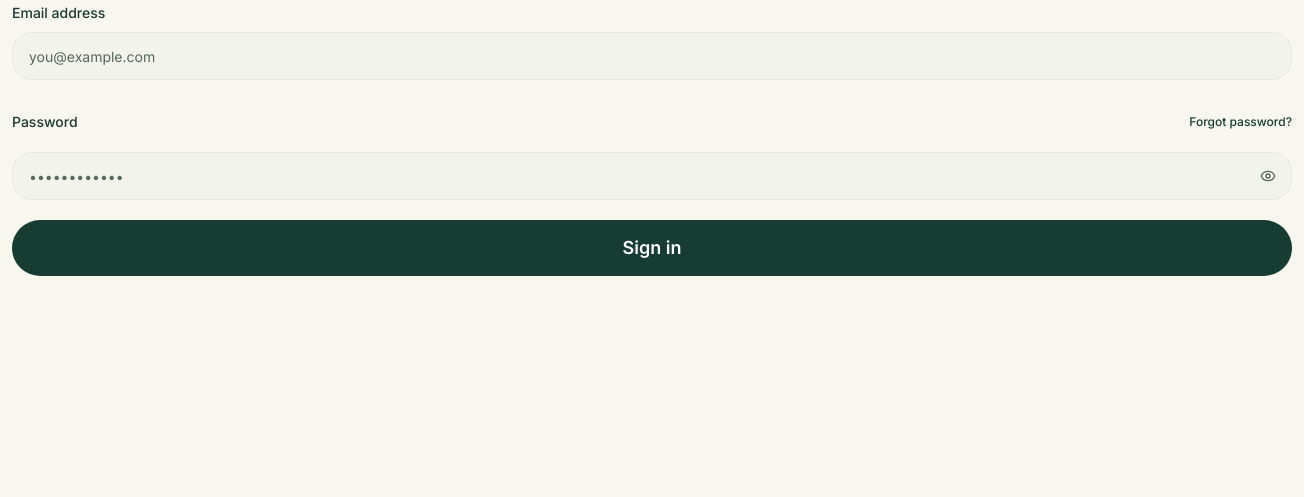
Test: clears the previous confirmation address when the email is edited
Type "owner@example.invalid" into the field labelled "Email address" at (652, 56), box [12, 32, 1292, 80]
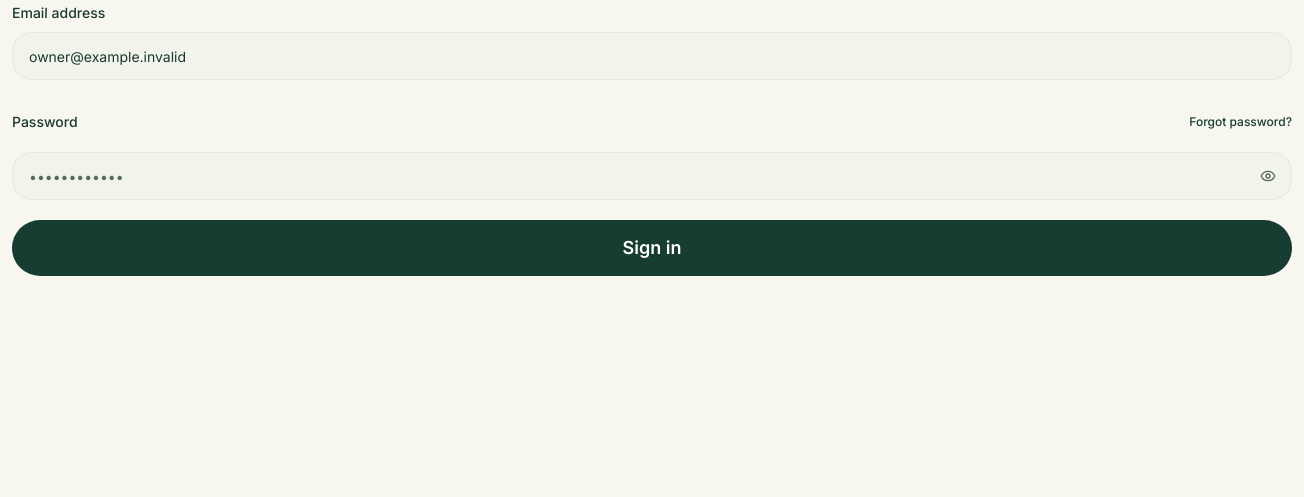
Type "ExamplePass1" into the password field labelled "Password" at (652, 176), box [12, 152, 1292, 200]
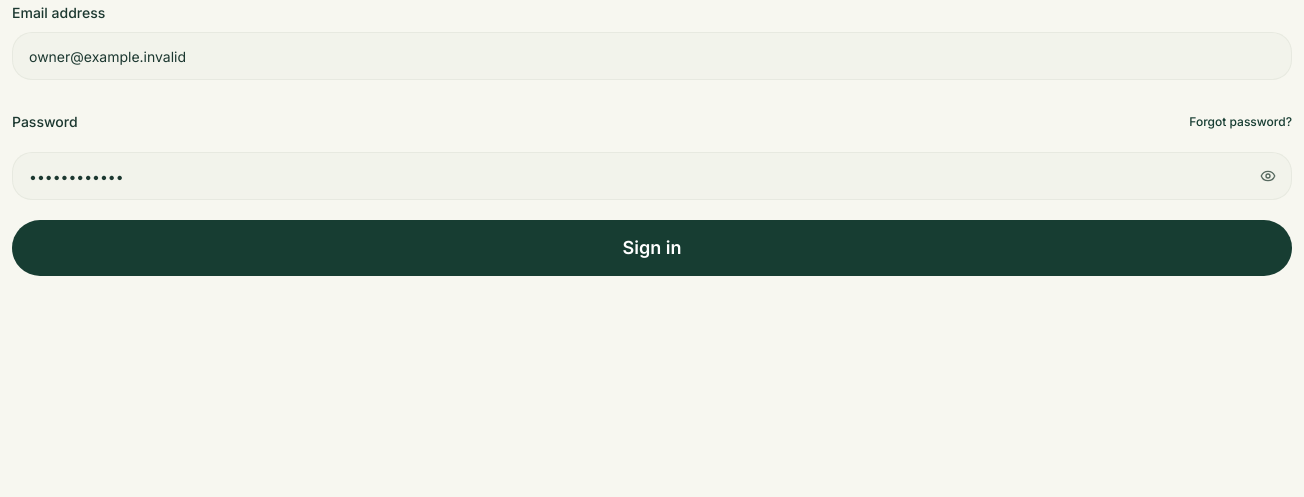
Click the button "Sign in" at (652, 248), box [12, 220, 1292, 276]
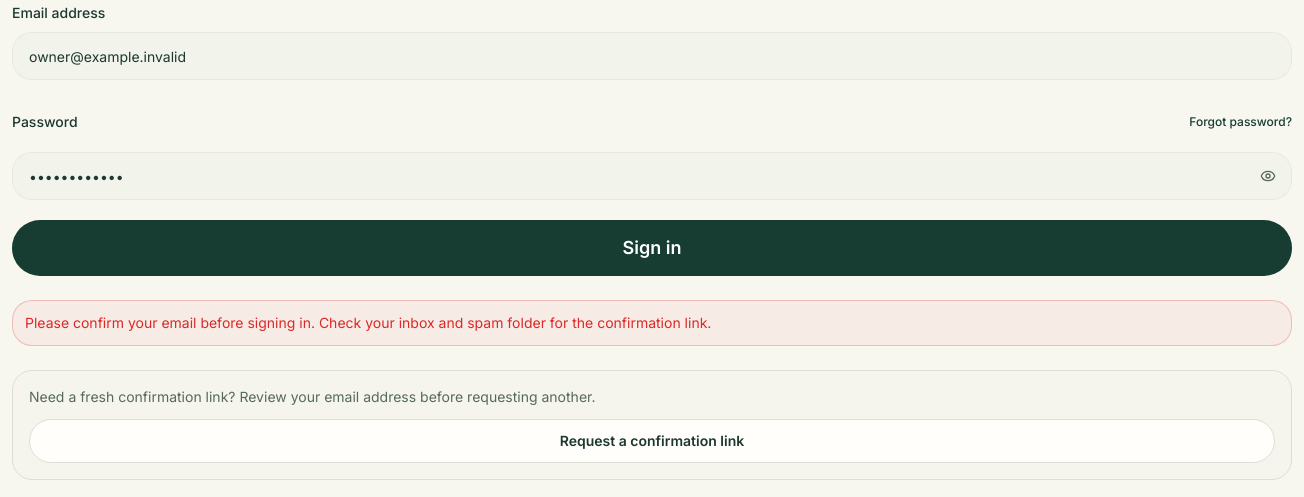
Expected: the message is shown, [12, 300, 1292, 346]
Expected: the link "Request a confirmation link" is shown, [29, 419, 1275, 463]
Replace the text in the field labelled "Email address" with "different@example.invalid" at (652, 56), box [12, 32, 1292, 80]
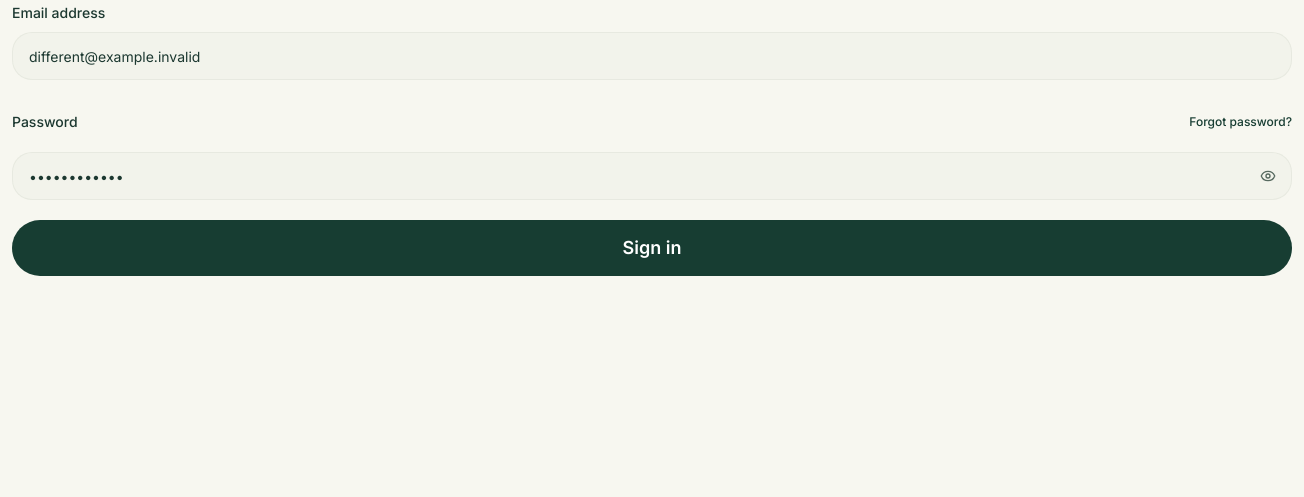
Expected: the link "Request a confirmation link" is gone
